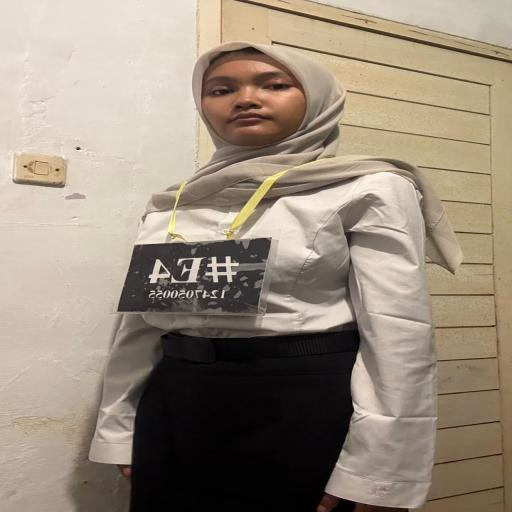kemeja_benar: (132, 184, 436, 336)
kerudung_salah: (126, 38, 406, 202)
nametag_ada: (121, 196, 274, 318)
rok_benar: (135, 361, 388, 512)
sabuk_ada: (146, 333, 370, 361)
